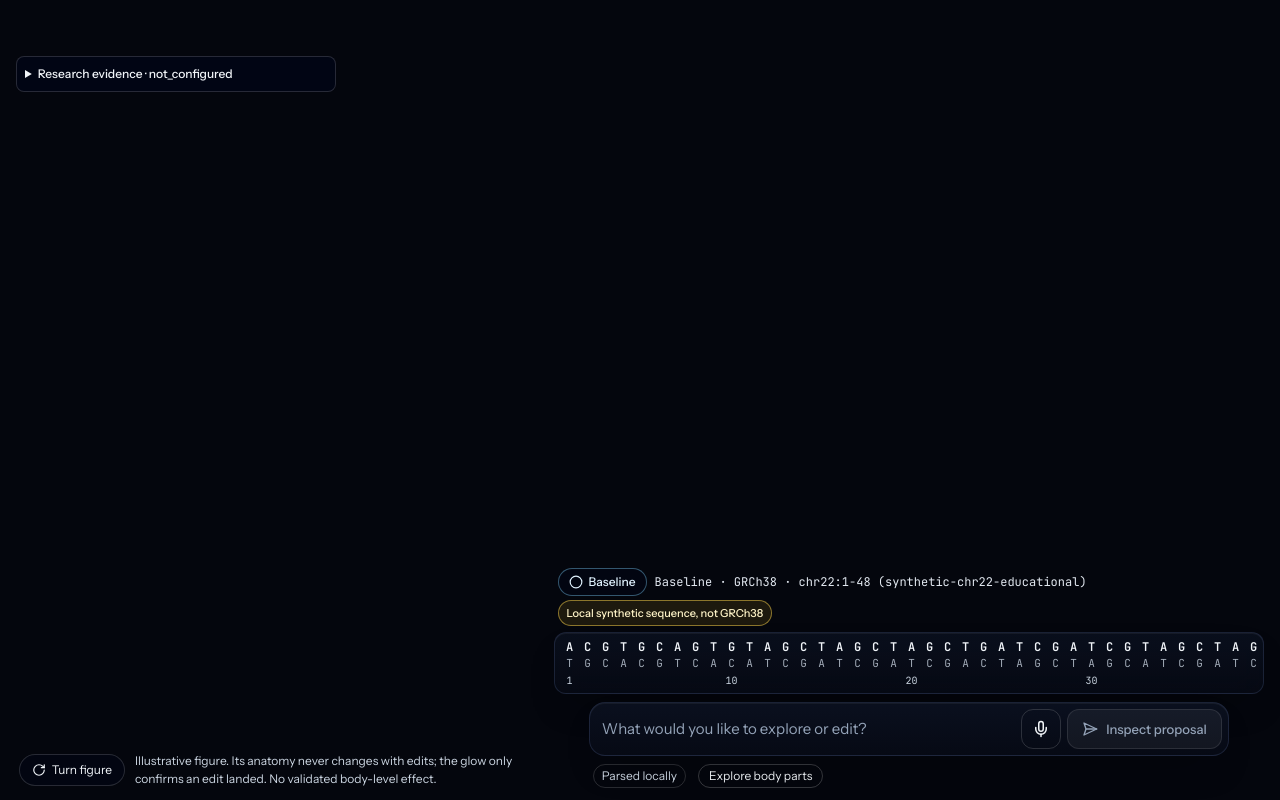
Scenario: explore and trait goals do not mutate the draft › an ultraviolet wish shows a research proposal and does not draft DNA
The width and height of the screenshot is (1280, 800).
Type "Make the virtual organism more resistant to ultraviolet radiation." into the field with test id "prompt-input" at (808, 729), box [602,712,1015,746]
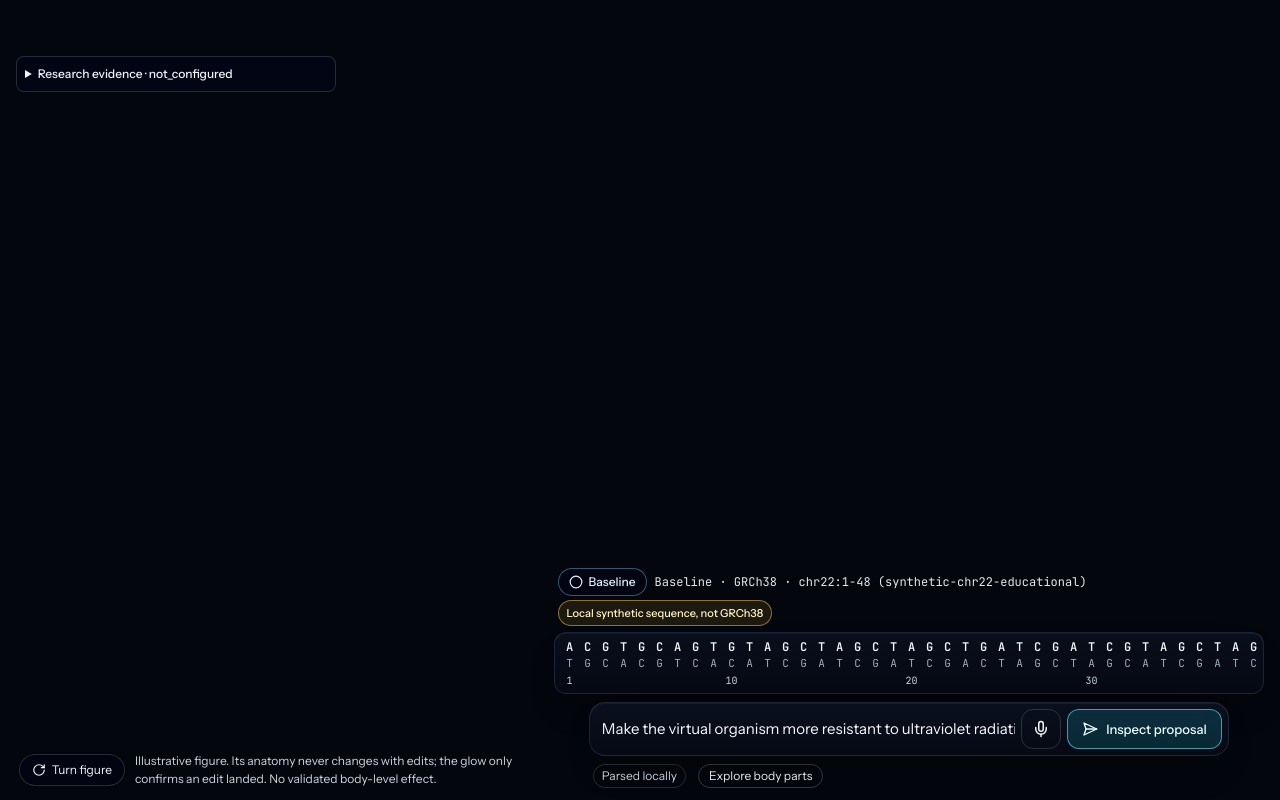
Click the button with test id "inspect-proposal" at (1144, 729), box [1067,709,1222,749]
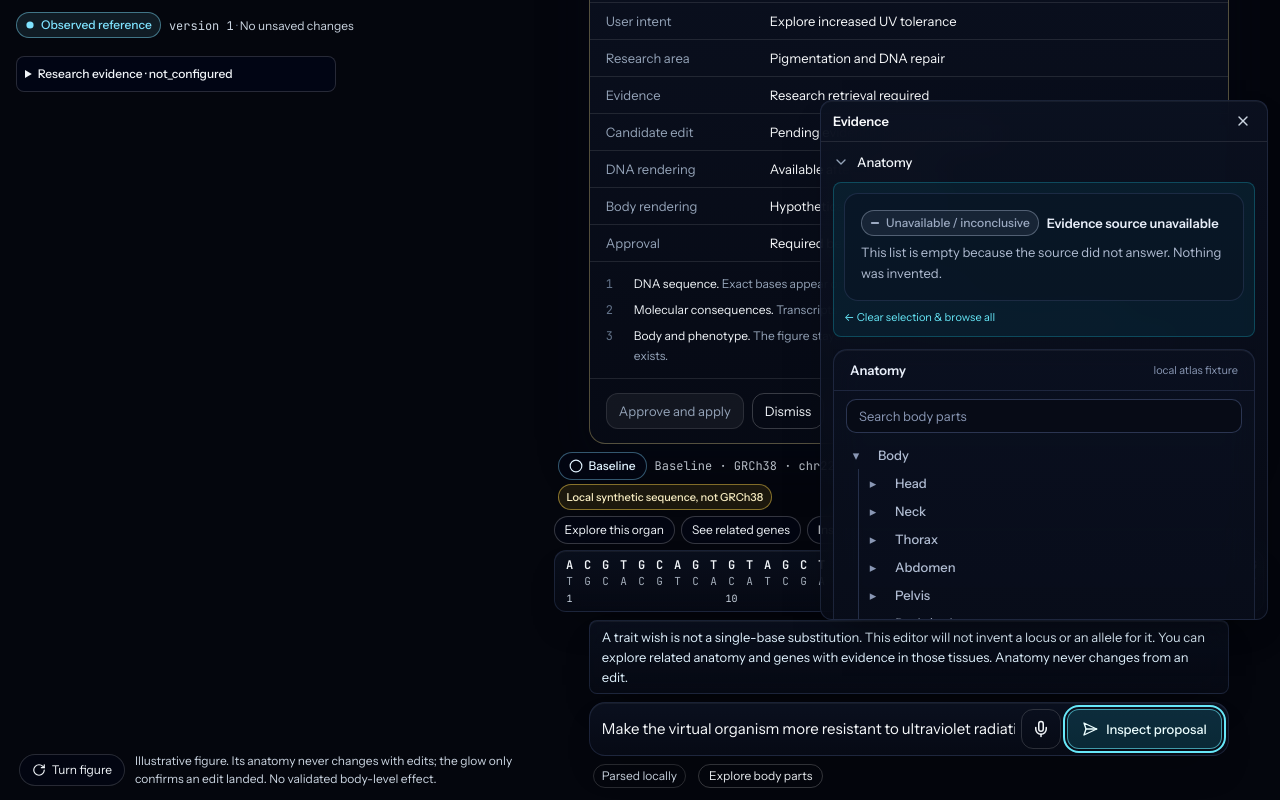
Expected: the text with test id "research-user_intent" reads "Explore increased UV tolerance", [770,13,956,29]
Expected: the text with test id "research-candidate_edit" reads "Pending evidence-based identification", [770,124,1000,140]
Expected: the button with test id "research-approve" is disabled, [606,393,744,429]
